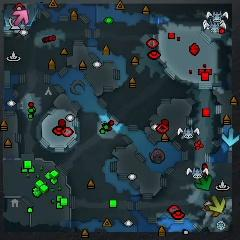x1: (13, 10, 29, 25)
x2: (210, 195, 226, 213)
x3: (222, 128, 240, 147)
x4: (195, 175, 212, 190)
x5: (205, 205, 219, 217)
